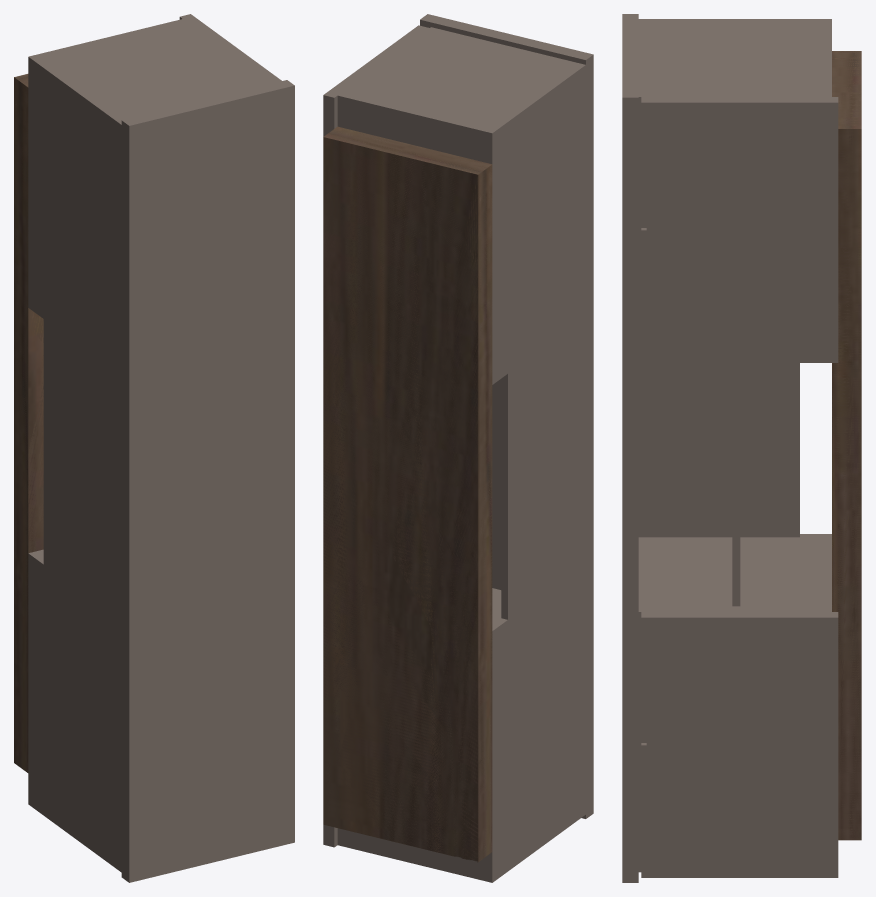
File: tv_table.obj
3 views of the same model, side by side, from view 1: azimuth 30°, elevation 25°; view 2: azimuth 150°, elevation 25°; view 3: azimuth 270°, elevation 25° (orthographic). The views are drawn at different scales.
Visible parts, largest first — view 1: tv_table.001; view 2: tv_table.001; view 3: tv_table.001.
Boxes of the visible parts, x1,y1,x2,y2 form: tv_table.001: (14, 14, 294, 882); tv_table.001: (323, 14, 593, 882); tv_table.001: (622, 14, 861, 882).
Bounding box in the file's own units: 0.38 × 1.62 × 0.446.
Materials: 5 (5 with a texture image).
